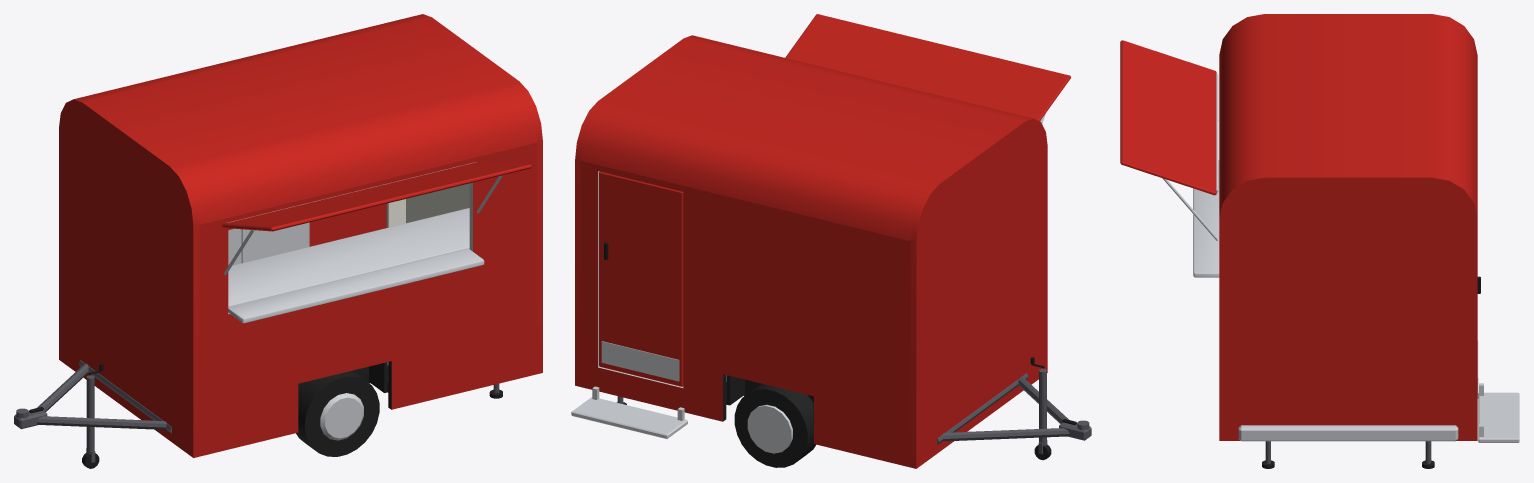
Rendered from trailer.glb.
3 views of the same model, side by side, from view 1: azimuth 30°, elevation 25°; view 2: azimuth 150°, elevation 25°; view 3: azimuth 270°, elevation 25° (orthographic). The views are drawn at different scales.
Parts seen in each view (by area): view 1: pieza_pintura, trailer_estructura, pieza_toldo, pieza_puerta; view 2: pieza_pintura, pieza_puerta, pieza_toldo, trailer_estructura; view 3: pieza_pintura, pieza_toldo, trailer_estructura.
Boxes of the visible parts, box(x1,y1,x2,y2) form: pieza_pintura: box(59, 14, 542, 457); trailer_estructura: box(14, 175, 502, 468); pieza_toldo: box(222, 161, 531, 231); pieza_puerta: box(309, 203, 386, 246); pieza_pintura: box(575, 35, 1047, 468); pieza_puerta: box(599, 171, 683, 386); pieza_toldo: box(785, 14, 1070, 121); trailer_estructura: box(571, 113, 1091, 467); pieza_pintura: box(1219, 14, 1477, 440); pieza_toldo: box(1120, 40, 1218, 195); trailer_estructura: box(1162, 120, 1519, 468).
Size of what is drawn, in the model's own units: 4.01 by 2.55 by 3.09.
